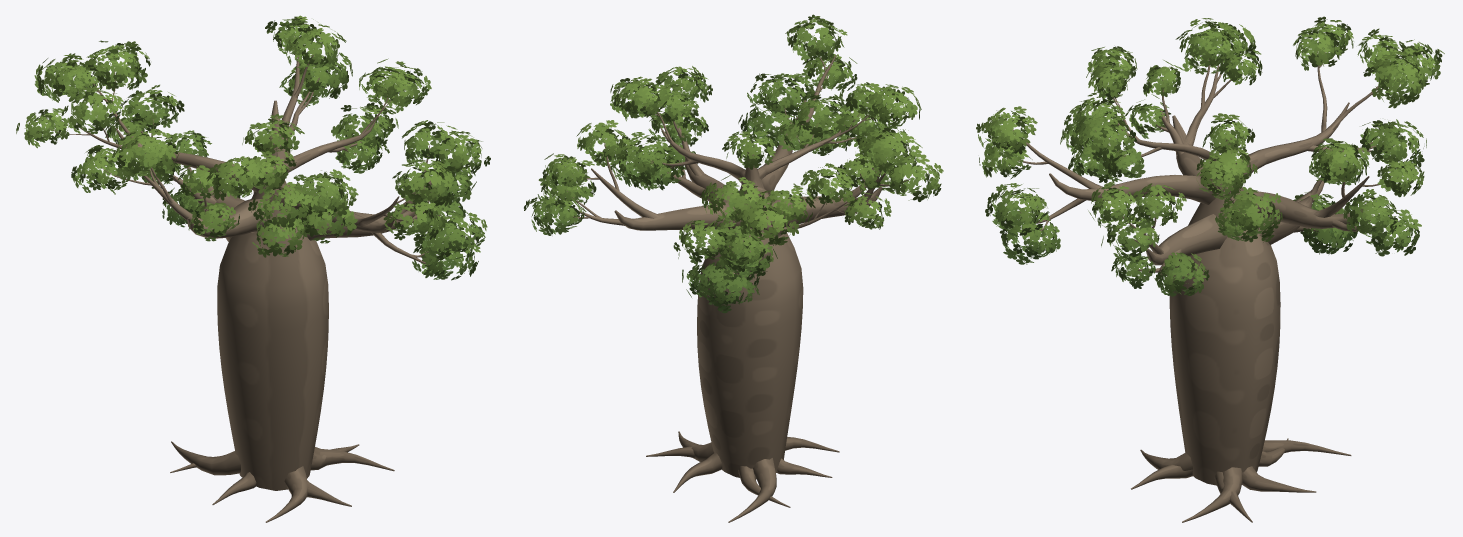
The model's file is tree.gltf.
3 renders of one model, left to right at view 1: azimuth 30°, elevation 25°; view 2: azimuth 150°, elevation 25°; view 3: azimuth 270°, elevation 25°, orthographic. The views are drawn at different scales.
Visible parts, largest first — view 1: Tree_LOD0; view 2: Tree_LOD0; view 3: Tree_LOD0.
Boxes of the visible parts, x1=… form: Tree_LOD0: x1=16, y1=15, x2=490, y2=522; Tree_LOD0: x1=524, y1=14, x2=943, y2=522; Tree_LOD0: x1=976, y1=16, x2=1444, y2=522.
Bounding box in the file's own units: 22.86 × 23.27 × 25.63.
2 materials, 2 textured.
